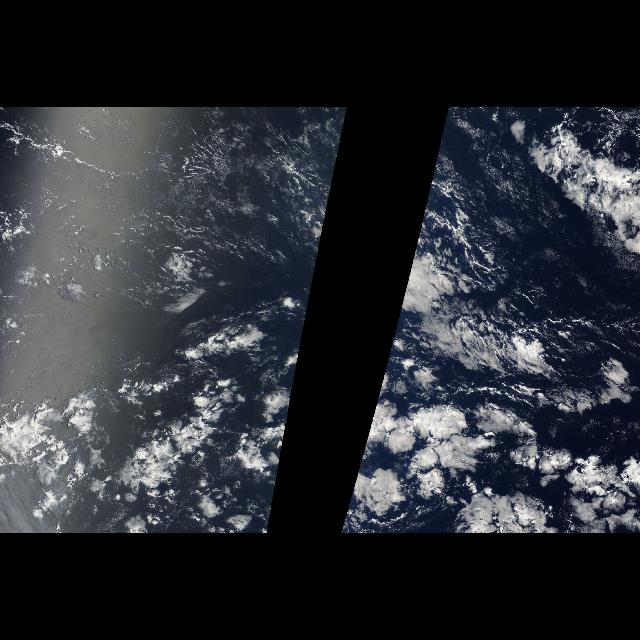Flower: (339, 236, 639, 534), (12, 324, 304, 534)
Sugar: (4, 115, 320, 282)
